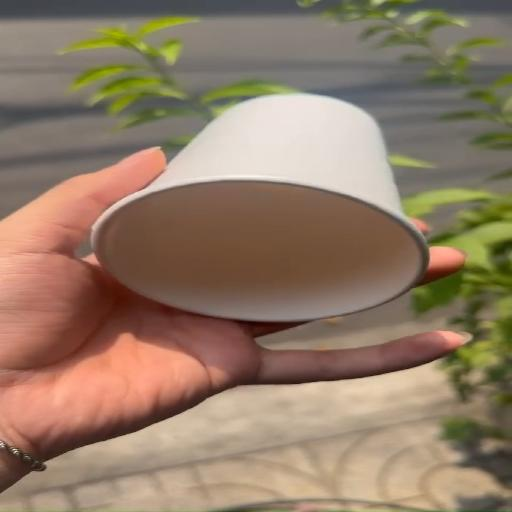Ly_giay: (92, 93, 428, 321)
